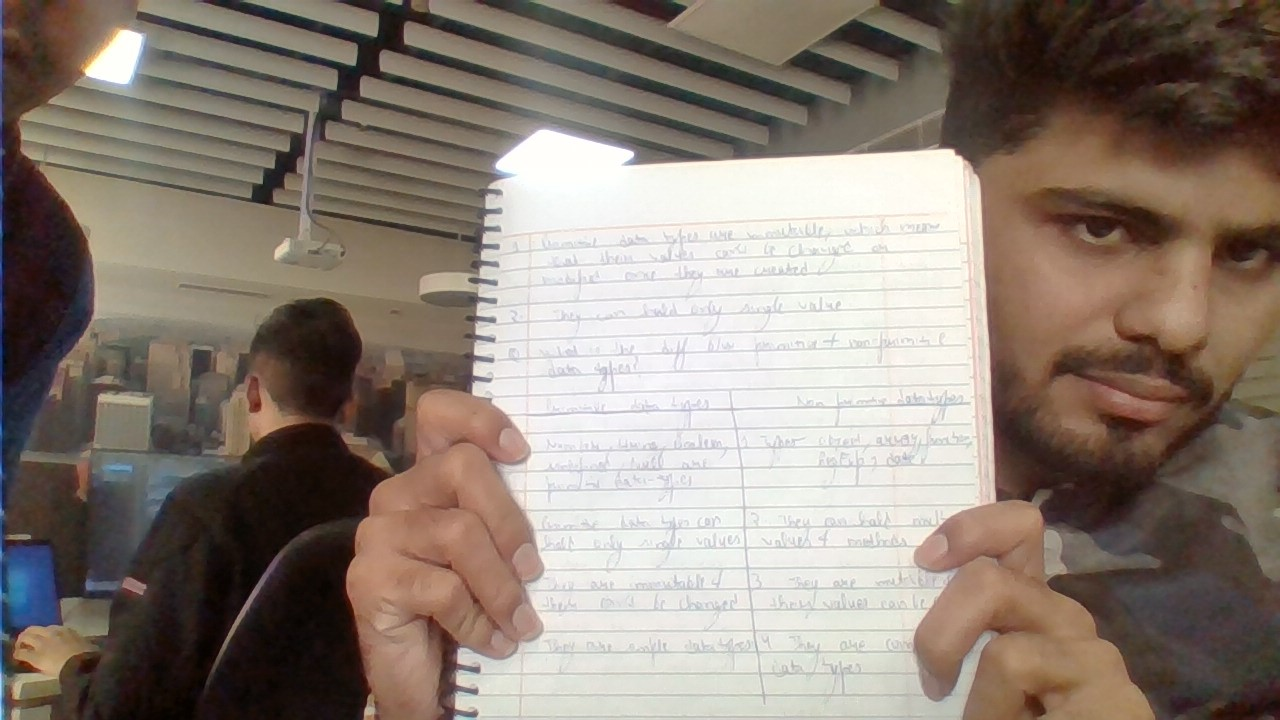partial: (436, 149, 1026, 720)
